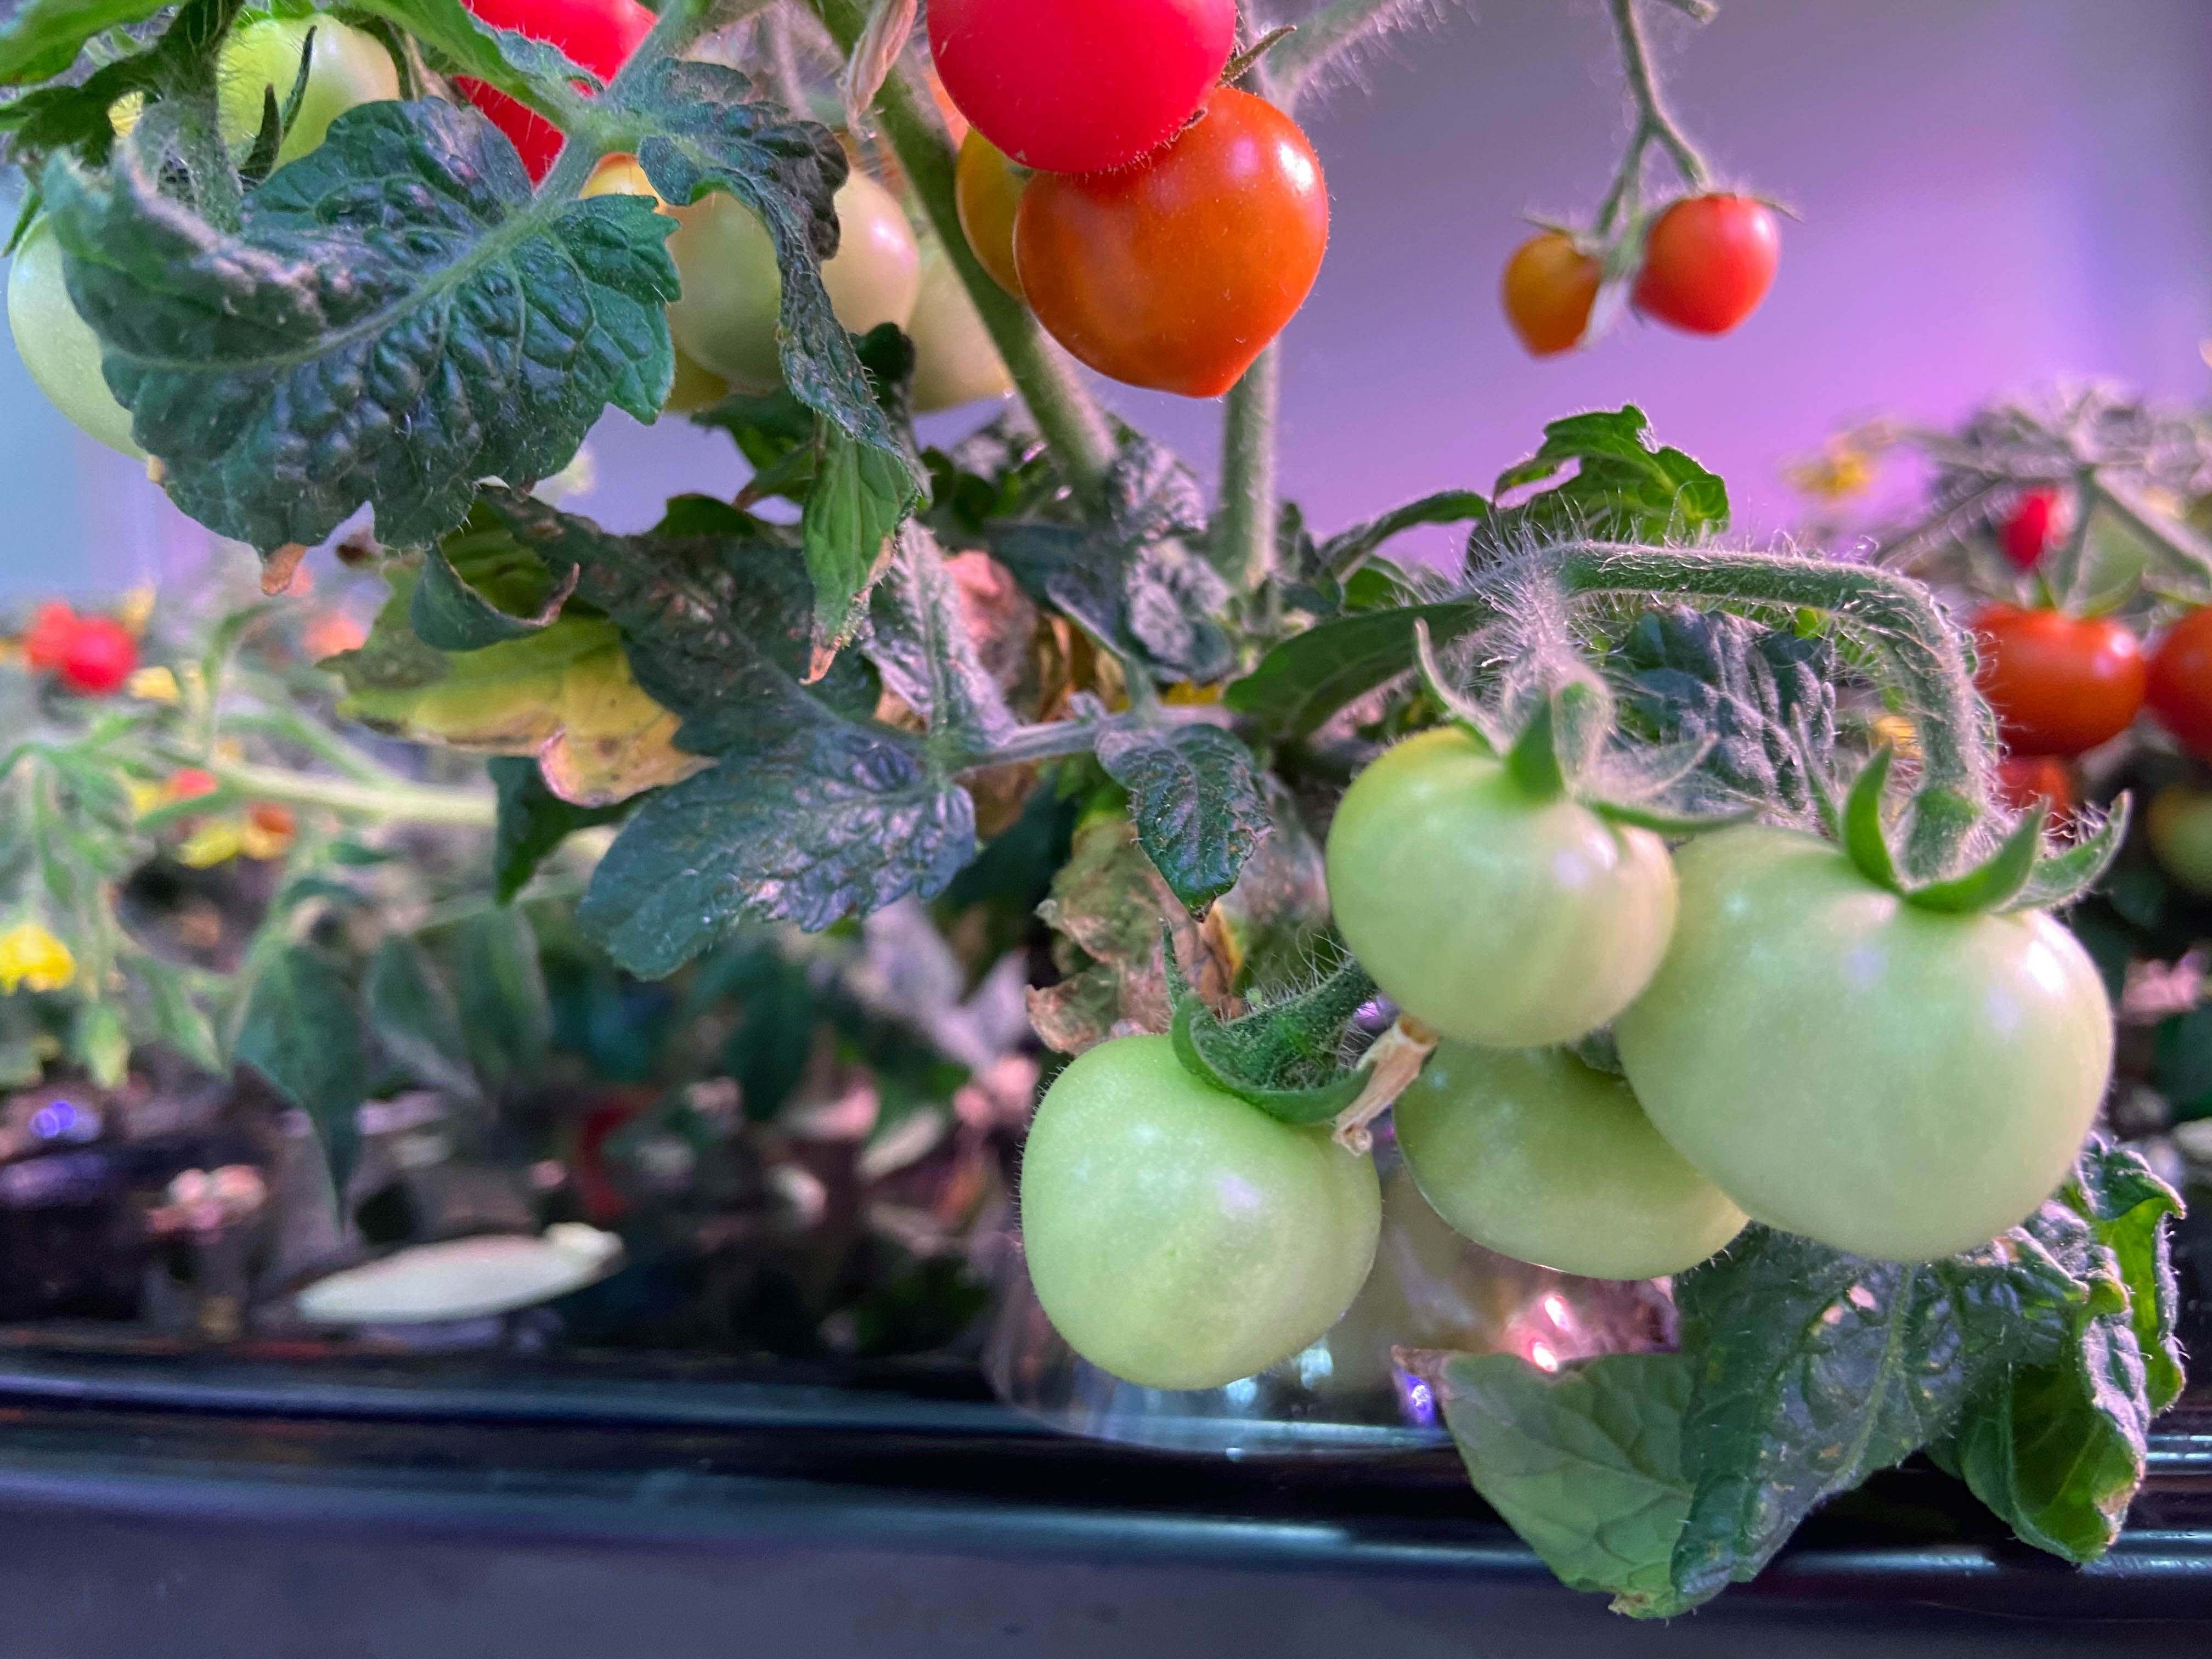green: (1634, 828, 2113, 1274), (1015, 1033, 1381, 1396), (1324, 721, 1679, 1053), (1397, 1025, 1766, 1279), (651, 160, 928, 399), (5, 228, 164, 460), (207, 5, 401, 173), (899, 230, 1062, 420)
red: (979, 77, 1331, 397), (928, 2, 1237, 171), (451, 0, 662, 167), (1947, 598, 2149, 753), (1627, 188, 1777, 340), (545, 1086, 704, 1216), (937, 125, 1066, 282), (1500, 225, 1615, 356), (1963, 467, 2102, 568), (2148, 584, 2210, 774), (45, 610, 136, 692), (12, 601, 99, 680)
